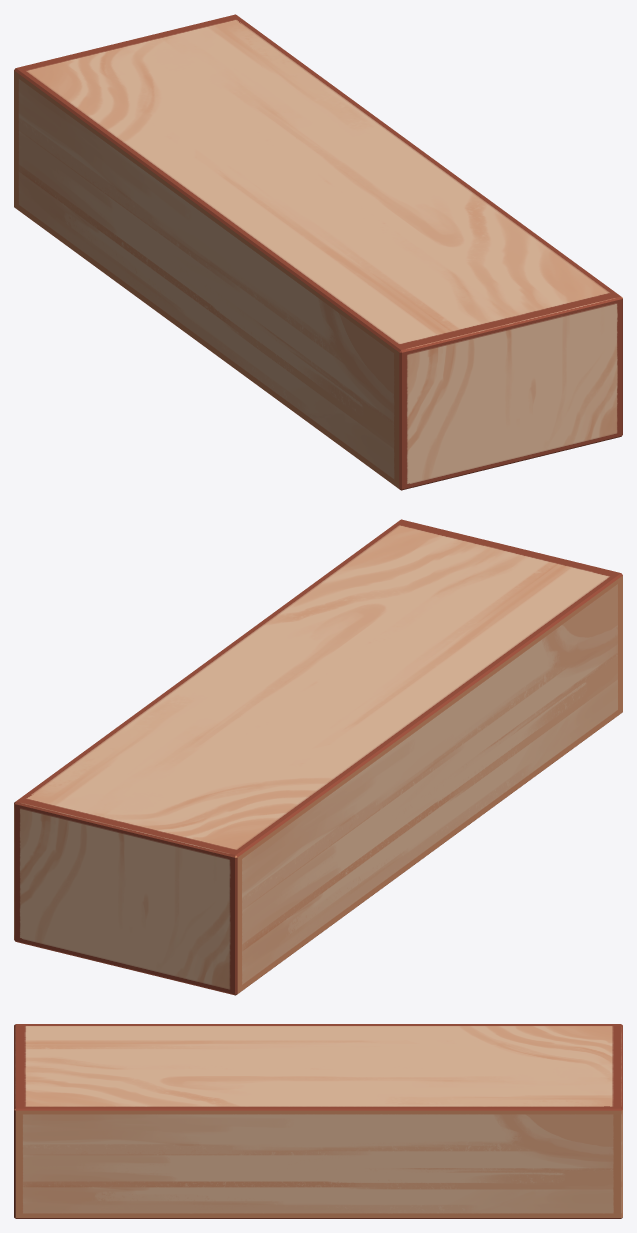
The model's file is jengablock.FBX.
3 views of the same model, one above another, from view 1: azimuth 30°, elevation 25°; view 2: azimuth 150°, elevation 25°; view 3: azimuth 270°, elevation 25° (orthographic). The views are drawn at different scales.
Parts seen in each view (by area): view 1: Box001; view 2: Box001; view 3: Box001.
Part boxes in pixels (left/top/right/bottom): Box001: left=14, top=14, right=622, bottom=490; Box001: left=14, top=519, right=622, bottom=995; Box001: left=14, top=1024, right=622, bottom=1218.
Bounding box in the file's own units: 9.84 × 5.91 × 29.53.
